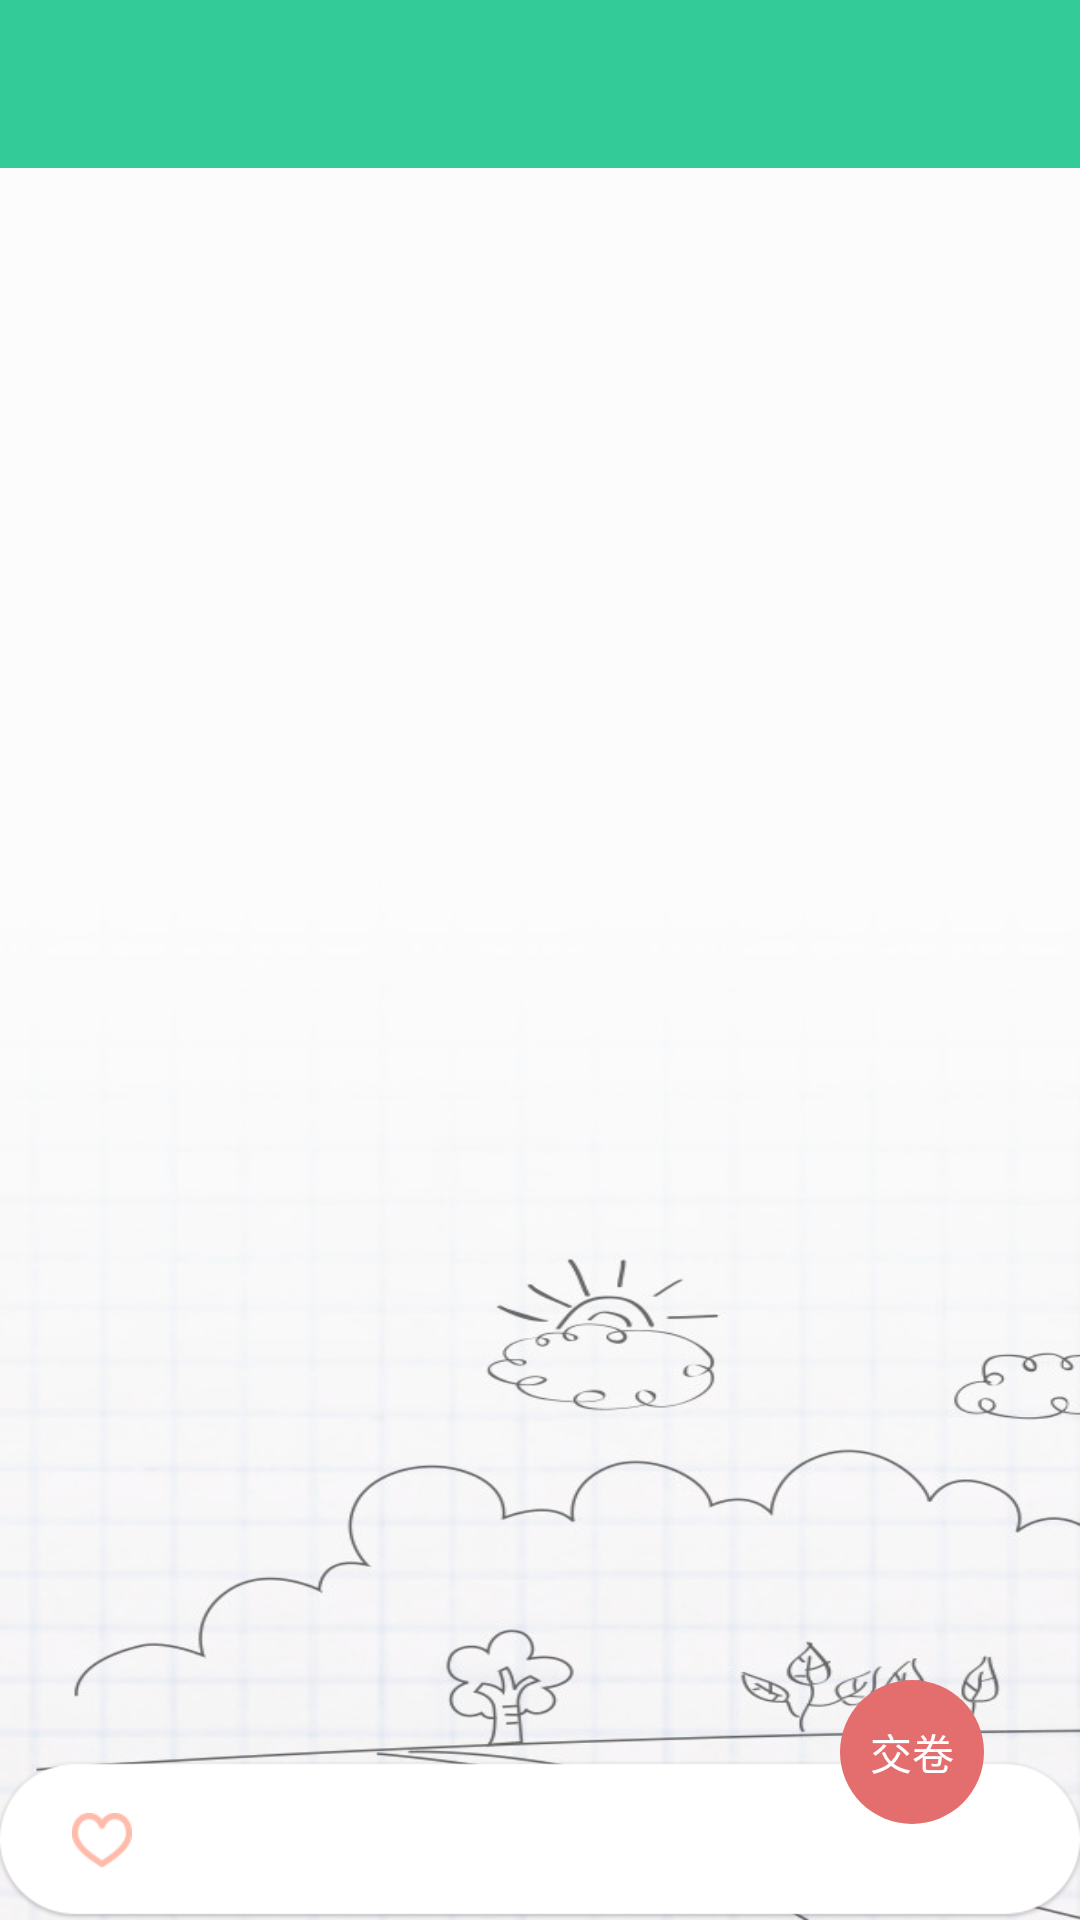

Screen size 1080w x 1920h. Icon name, then its center in pixels as point (x, y):
question uncollection: point (102, 1840)
